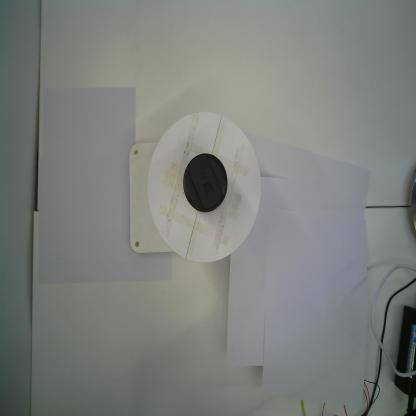Canned Food: (182, 151, 230, 216)
